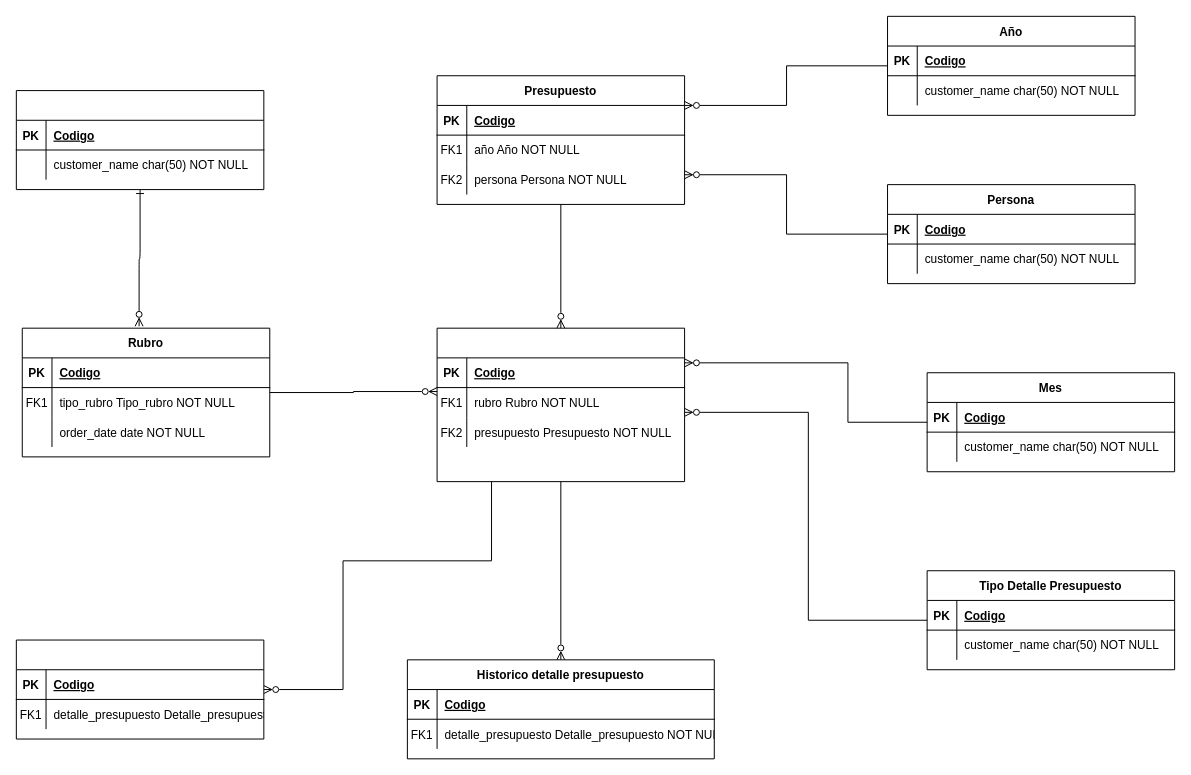
The diagram is 1191 pixels wide and 775 high, and some of its shapes have lost their labels. The box of each missing label's shape, as (x1, y1, x2, y2) in pixels:
Detalle Presupuesto: (436, 327, 685, 482)
Ejecución Real Detalle Presupuesto: (15, 639, 264, 739)
Tipo Rubro: (15, 90, 264, 190)
